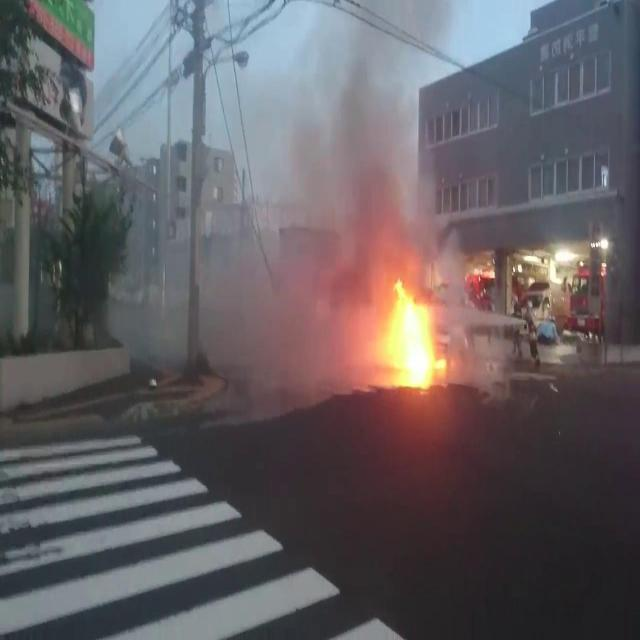Fire: (385, 284, 435, 384)
Smoke: (300, 4, 440, 288), (214, 284, 378, 386)
